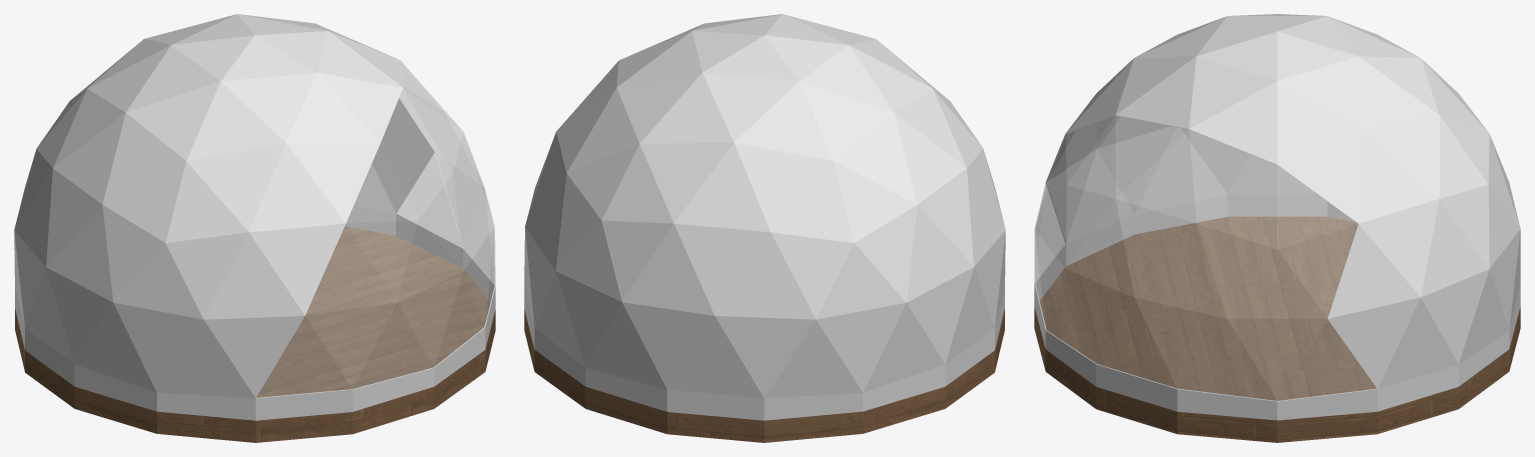
The model's file is dm11.pacific.dome.01.glb.
3 renders of one model, left to right at view 1: azimuth 30°, elevation 25°; view 2: azimuth 150°, elevation 25°; view 3: azimuth 270°, elevation 25°, orthographic.
Parts seen in each view (by area): view 1: dm11.pacific.dome.02, dm11.pacific.window.01, dm11.pacific.deck.01; view 2: dm11.pacific.dome.02, dm11.pacific.deck.01; view 3: dm11.pacific.dome.02, dm11.pacific.window.01, dm11.pacific.deck.01.
Part boxes in pixels (x1,y1,x2,y2): dm11.pacific.dome.02: (14,14,495,420); dm11.pacific.window.01: (256,61,495,397); dm11.pacific.deck.01: (15,226,495,442); dm11.pacific.dome.02: (524,14,1005,420); dm11.pacific.deck.01: (524,308,1004,442); dm11.pacific.dome.02: (1034,14,1520,420); dm11.pacific.window.01: (1034,115,1376,401); dm11.pacific.deck.01: (1034,216,1520,442).
Bounding box in the file's own units: 5.99 × 4.18 × 5.97.
2 materials, 1 textured.
